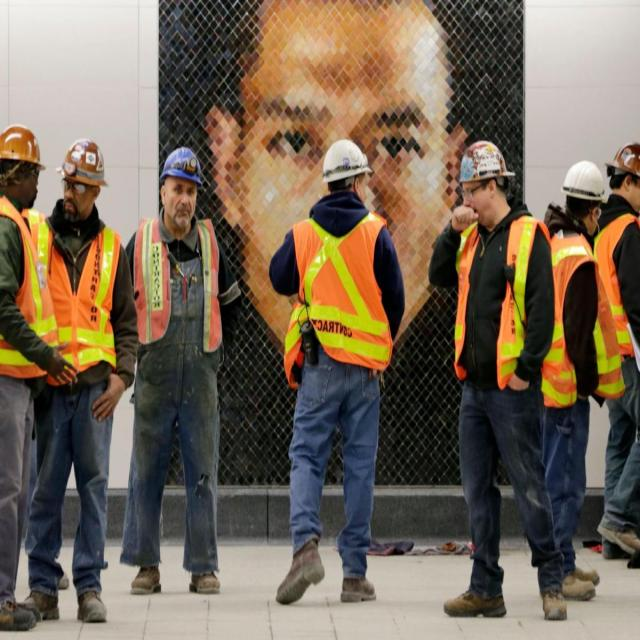Reflective-Jacket: (9, 217, 126, 387), (448, 212, 552, 396), (284, 207, 395, 372), (128, 210, 227, 368), (539, 229, 600, 407), (0, 198, 54, 384), (593, 212, 640, 402)
Safety-Helmet: (55, 132, 115, 193), (453, 133, 516, 191), (318, 133, 373, 186), (559, 154, 610, 210), (154, 140, 208, 191), (0, 121, 47, 178), (607, 134, 640, 192)
